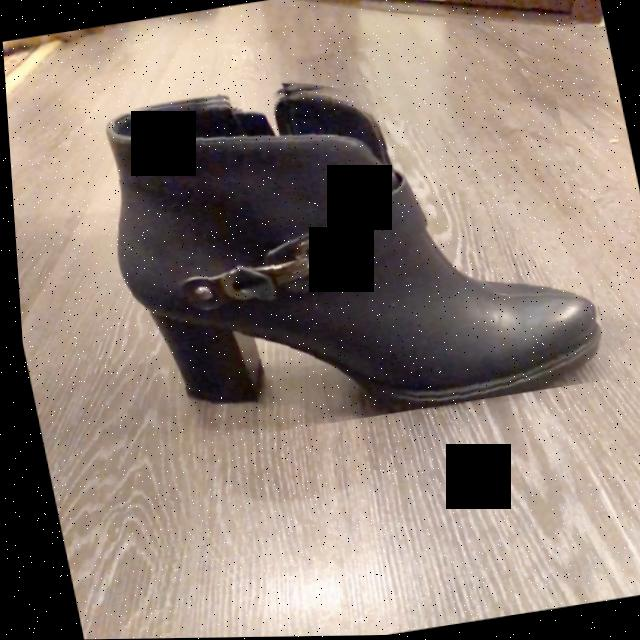shoe: (104, 92, 599, 414)
